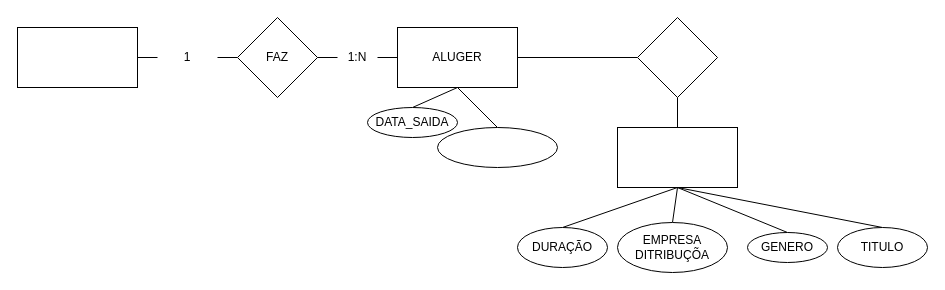
Image size: 945x290. Some labels were removed from this diagram. Here are the shapes that lost their labels. From the top down, the box of each, then its label:
(16, 26, 138, 88): CLIENTE
(636, 16, 718, 98): TEM
(436, 126, 558, 168): DATA_ENTRADA
(616, 126, 738, 188): VIDEO
